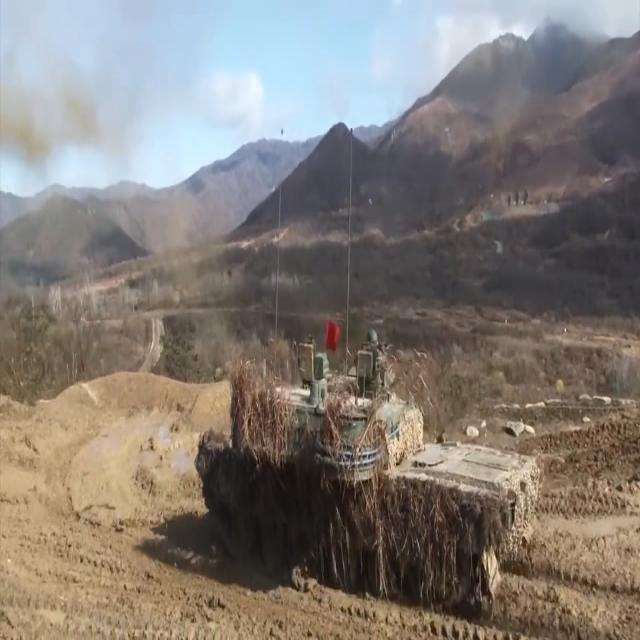korea tank: (193, 327, 541, 605)
